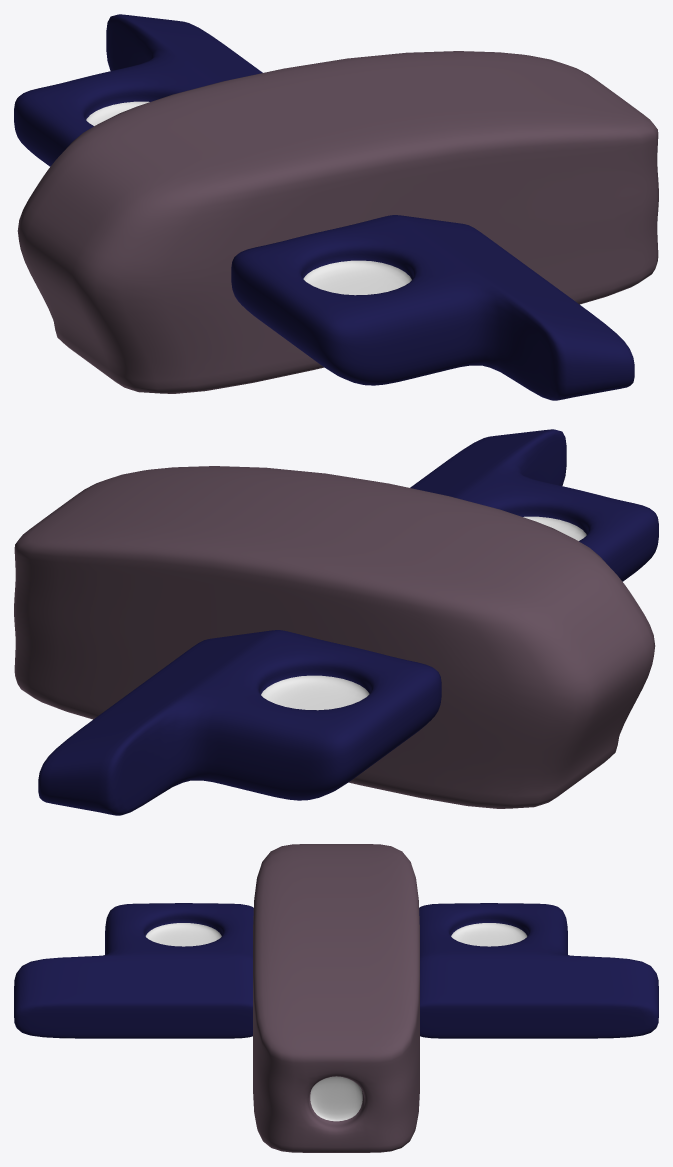
File: Drone_GJ.fbx
3 views of the same model, one above another, from view 1: azimuth 30°, elevation 25°; view 2: azimuth 150°, elevation 25°; view 3: azimuth 270°, elevation 25° (orthographic). The views are drawn at different scales.
Visible parts, largest first — view 1: Drone; view 2: Drone; view 3: Drone.
Part boxes in pixels (left/top/right/bottom): Drone: left=14, top=14, right=658, bottom=400; Drone: left=14, top=429, right=658, bottom=815; Drone: left=14, top=844, right=658, bottom=1152.
Bounding box in the file's own units: 139 × 49.64 × 193.
